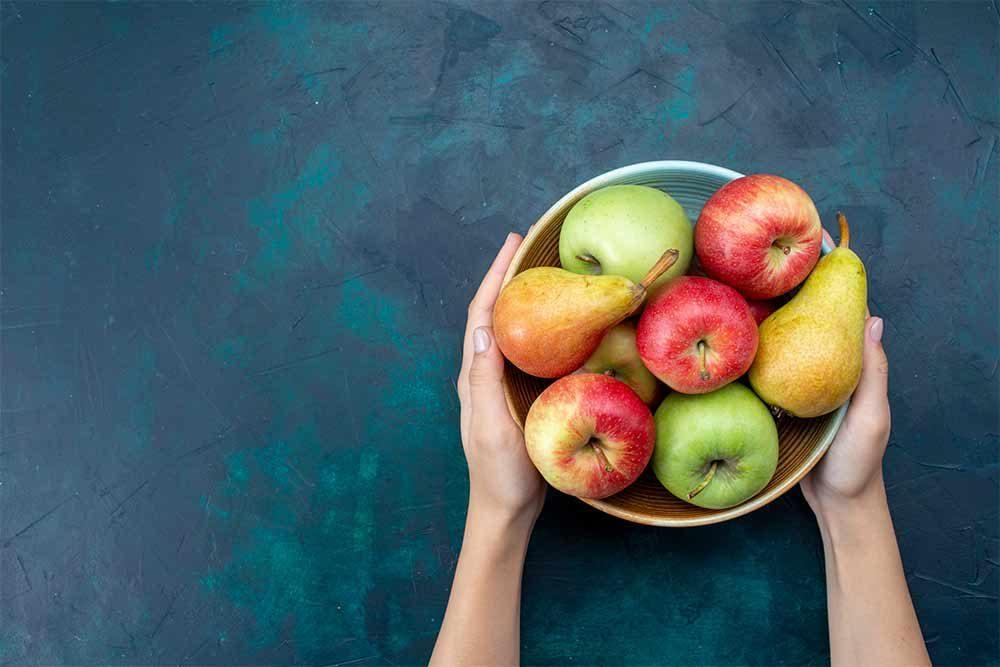apple: (695, 169, 825, 307), (522, 371, 656, 502), (553, 182, 696, 291), (637, 275, 759, 396)
